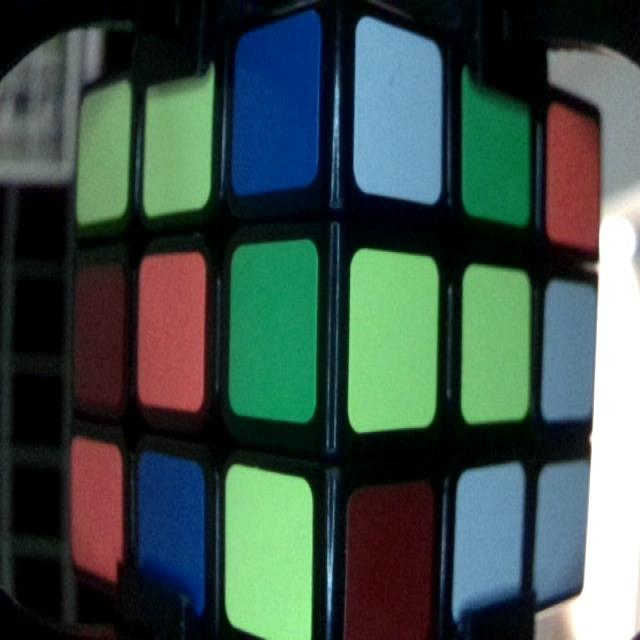b: (238, 45, 313, 176), (138, 461, 204, 601)
g: (235, 253, 314, 411), (464, 73, 528, 214)
o: (140, 266, 202, 402), (548, 113, 598, 240), (72, 449, 121, 566)
r: (354, 497, 428, 639), (75, 276, 120, 400)
w: (359, 38, 441, 188), (460, 483, 522, 607), (548, 290, 594, 416), (543, 473, 583, 589)
y: (353, 260, 436, 413), (225, 486, 311, 632), (466, 273, 528, 406), (147, 82, 208, 199), (80, 100, 127, 214)
